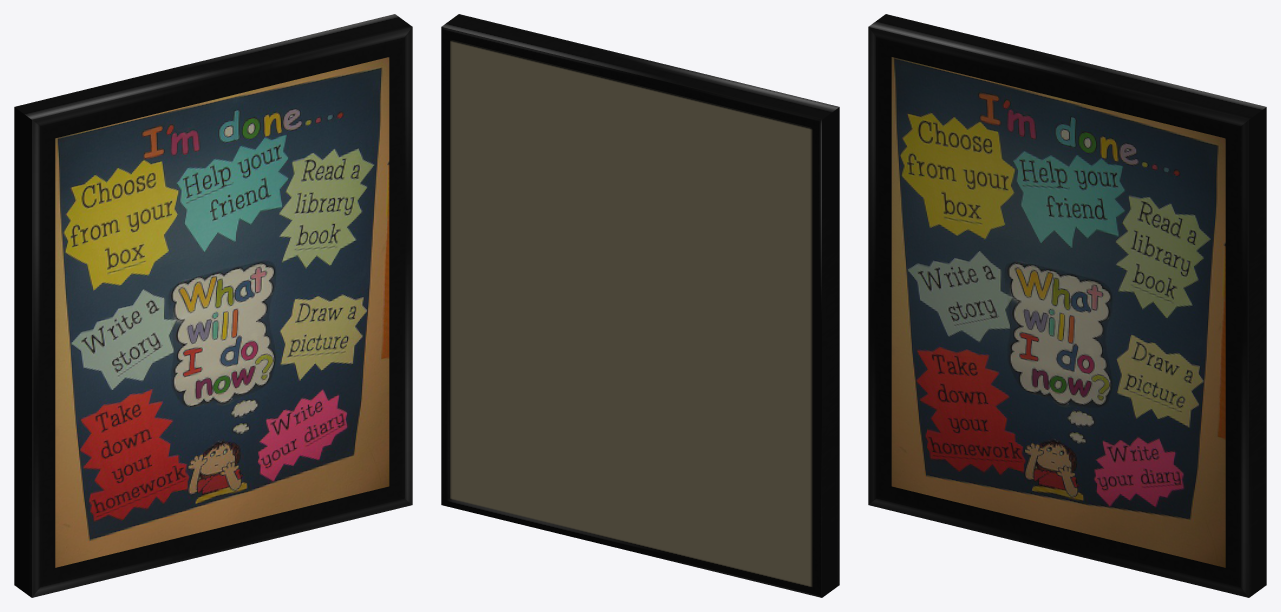
The model's file is poster4.FBX.
3 renders of one model, left to right at view 1: azimuth 30°, elevation 25°; view 2: azimuth 150°, elevation 25°; view 3: azimuth 330°, elevation 25°, orthographic.
Parts seen in each view (by area): view 1: poster4; view 2: poster4; view 3: poster4.
Part boxes in pixels (bbox=[...]): poster4: bbox=[14, 14, 412, 597]; poster4: bbox=[441, 14, 839, 597]; poster4: bbox=[868, 14, 1266, 597].
Bounding box in the file's own units: 5 × 6 × 0.4.
